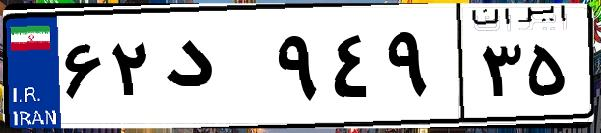2: (110, 28, 158, 98)
3: (475, 38, 525, 113)
4: (330, 28, 385, 110)
5: (525, 38, 570, 115)
6: (57, 26, 110, 100)
9: (270, 28, 330, 110), (385, 28, 445, 110)
د: (158, 20, 270, 120)
